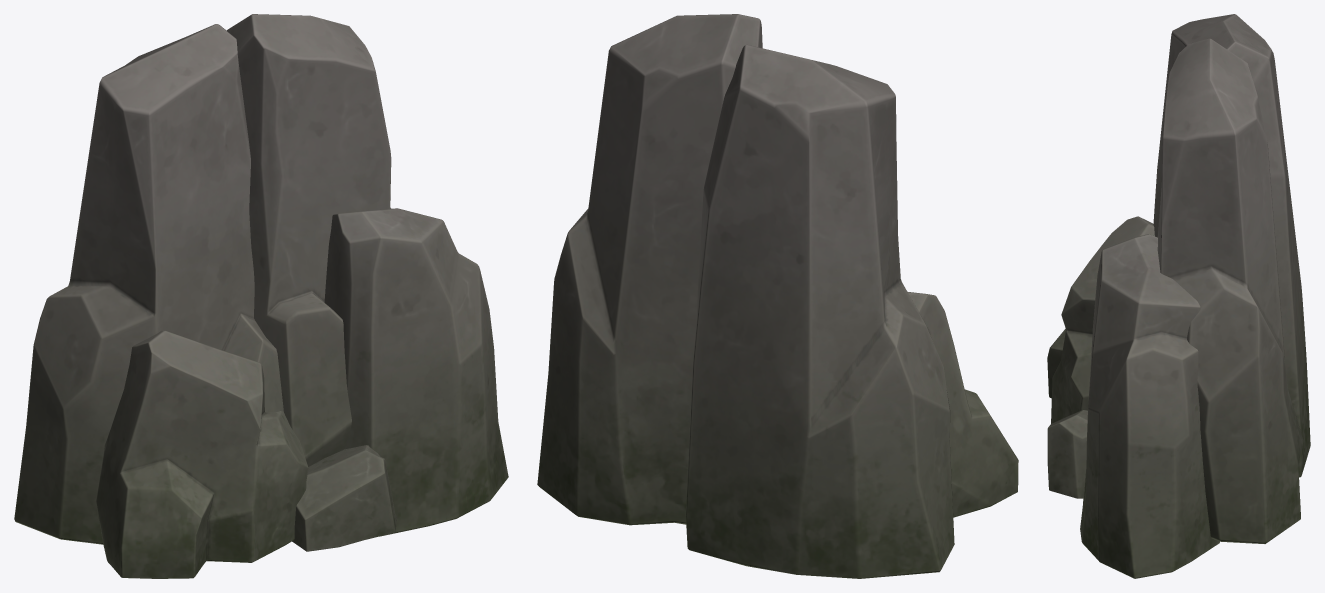
File: AP2_Rock16.glb
3 renders of one model, left to right at view 1: azimuth 30°, elevation 25°; view 2: azimuth 150°, elevation 25°; view 3: azimuth 270°, elevation 25°, orthographic. The views are drawn at different scales.
Visible parts, largest first — view 1: Rock16_LOD0; view 2: Rock16_LOD0; view 3: Rock16_LOD0.
Boxes of the visible parts, x1,y1,x2,y2 form: Rock16_LOD0: (14, 14, 508, 578); Rock16_LOD0: (537, 14, 1018, 578); Rock16_LOD0: (1047, 14, 1310, 578).
Bounding box in the file's own units: 7.73 × 8.32 × 4.46.
1 material, 1 textured.
